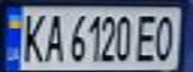0: (115, 11, 136, 63)
1: (84, 11, 103, 63)
2: (100, 11, 118, 63)
6: (66, 11, 87, 63)
A: (39, 10, 66, 64)
E: (133, 11, 160, 63)
K: (15, 9, 48, 64)
O: (151, 11, 181, 63)
